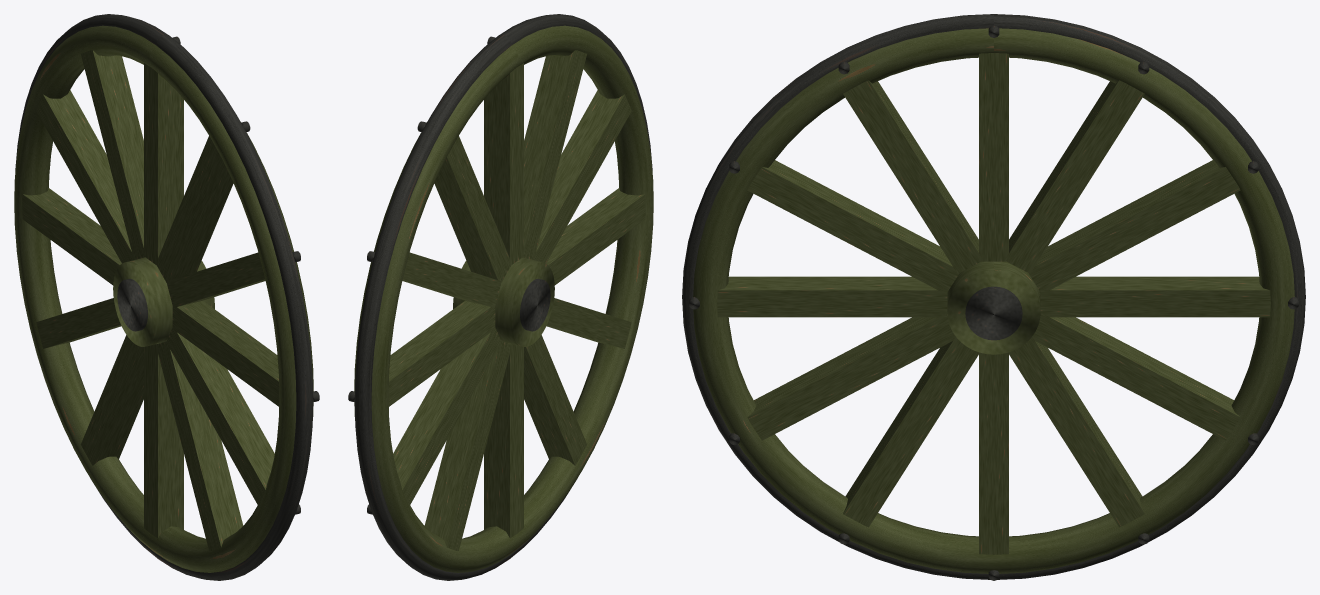
The model's file is wheel_right.obj.
3 views of the same model, side by side, from view 1: azimuth 30°, elevation 25°; view 2: azimuth 150°, elevation 25°; view 3: azimuth 270°, elevation 25° (orthographic). The views are drawn at different scales.
Visible parts, largest first — view 1: Wooden_felloe_wheel_right, Iron_tyre_wheel_right, Spoke_(1,_5), Spoke_(1,_11), Spoke_(1,_0), Spoke_(1,_4), Spoke_(1,_6), Spoke_(1,_10), Spoke_(1,_1), Spoke_(1,_3), Spoke_(1,_7), Spoke_(1,_9) (+4 smaller); view 2: Wooden_felloe_wheel_right, Iron_tyre_wheel_right, Spoke_(1,_7), Spoke_(1,_1), Spoke_(1,_0), Spoke_(1,_8), Spoke_(1,_6), Spoke_(1,_2), Spoke_(1,_11), Spoke_(1,_9), Spoke_(1,_5), Spoke_(1,_3) (+4 smaller); view 3: Wooden_felloe_wheel_right, Iron_tyre_wheel_right, Spoke_(1,_3), Spoke_(1,_9), Spoke_(1,_2), Spoke_(1,_10), Spoke_(1,_8), Spoke_(1,_4), Spoke_(1,_1), Spoke_(1,_11), Spoke_(1,_5), Spoke_(1,_7) (+4 smaller).
Boxes of the visible parts, x1=… form: Wooden_felloe_wheel_right: x1=14, y1=25, x2=313, y2=572; Iron_tyre_wheel_right: x1=15, y1=14, x2=313, y2=580; Spoke_(1,_5): x1=157, y1=341, x2=243, y2=550; Spoke_(1,_11): x1=81, y1=50, x2=145, y2=259; Spoke_(1,_0): x1=144, y1=63, x2=183, y2=265; Spoke_(1,_4): x1=166, y1=328, x2=274, y2=506; Spoke_(1,_6): x1=144, y1=343, x2=183, y2=538; Spoke_(1,_10): x1=36, y1=90, x2=133, y2=263; Spoke_(1,_1): x1=157, y1=136, x2=233, y2=282; Spoke_(1,_3): x1=172, y1=300, x2=279, y2=406; Spoke_(1,_7): x1=80, y1=335, x2=143, y2=465; Spoke_(1,_9): x1=22, y1=188, x2=121, y2=285; Wooden_felloe_wheel_right: x1=354, y1=25, x2=653, y2=572; Iron_tyre_wheel_right: x1=354, y1=14, x2=652, y2=580; Spoke_(1,_7): x1=424, y1=341, x2=510, y2=550; Spoke_(1,_1): x1=522, y1=50, x2=586, y2=259; Spoke_(1,_0): x1=484, y1=63, x2=523, y2=265; Spoke_(1,_8): x1=393, y1=326, x2=500, y2=506; Spoke_(1,_6): x1=484, y1=343, x2=523, y2=538; Spoke_(1,_2): x1=534, y1=90, x2=631, y2=263; Spoke_(1,_11): x1=434, y1=136, x2=510, y2=282; Spoke_(1,_9): x1=388, y1=300, x2=495, y2=406; Spoke_(1,_5): x1=524, y1=335, x2=587, y2=465; Spoke_(1,_3): x1=546, y1=188, x2=645, y2=285; Wooden_felloe_wheel_right: x1=693, y1=28, x2=1294, y2=573; Iron_tyre_wheel_right: x1=682, y1=14, x2=1305, y2=579; Spoke_(1,_3): x1=717, y1=276, x2=947, y2=317; Spoke_(1,_9): x1=1040, y1=276, x2=1270, y2=317; Spoke_(1,_2): x1=747, y1=160, x2=959, y2=293; Spoke_(1,_10): x1=1028, y1=160, x2=1240, y2=292; Spoke_(1,_8): x1=1032, y1=313, x2=1240, y2=440; Spoke_(1,_4): x1=747, y1=313, x2=955, y2=440; Spoke_(1,_1): x1=843, y1=80, x2=983, y2=273; Spoke_(1,_11): x1=1004, y1=80, x2=1144, y2=273; Spoke_(1,_5): x1=843, y1=337, x2=978, y2=527; Spoke_(1,_7): x1=1009, y1=337, x2=1144, y2=527.
Bounding box in the file's own units: 0.2 × 1.5 × 1.5.
